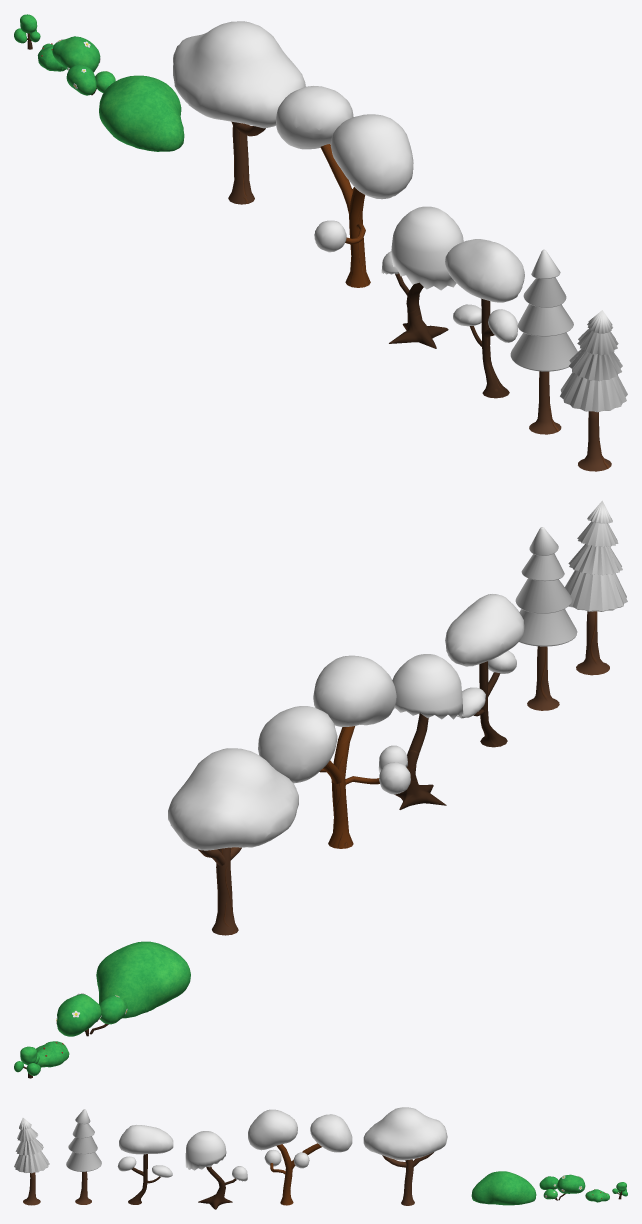
The model's file is TreesANDBushes.fbx.
3 renders of one model, top to bottom at view 1: azimuth 30°, elevation 25°; view 2: azimuth 150°, elevation 25°; view 3: azimuth 270°, elevation 25°, orthographic. The views are drawn at different scales.
Parts seen in each view (by area): view 1: Mball.001, Mball.028, Mball.003, Circle.001, Cylinder.011, Cylinder.012, Mball.021, Circle.010; view 2: Mball.001, Mball.028, Mball.003, Cylinder.011, Circle.001, Cylinder.012, Mball.021, Circle.010; view 3: Mball.001, Mball.028, Mball.003, Circle.001, Mball.021, Cylinder.011, Cylinder.012, Circle.010, Mball.017, Plane.014.
Part boxes in pixels (x1,y1,x2,y2): Mball.001: (276,86,413,287); Mball.028: (173,21,305,204); Mball.003: (445,239,524,398); Circle.001: (381,206,463,348); Cylinder.011: (510,249,577,434); Cylinder.012: (560,310,627,471); Mball.021: (99,75,184,151); Circle.010: (52,36,115,95); Mball.001: (258,655,410,848); Mball.028: (168,748,298,935); Mball.003: (445,594,524,747); Cylinder.011: (515,527,577,710); Circle.001: (378,654,463,809); Cylinder.012: (565,500,627,675); Mball.021: (96,941,190,1018); Circle.010: (56,993,127,1036); Mball.001: (248,1109,352,1205); Mball.028: (363,1107,447,1205); Mball.003: (117,1125,173,1204); Circle.001: (185,1131,247,1209); Mball.021: (471,1171,536,1205); Cylinder.011: (66,1109,101,1204); Cylinder.012: (14,1118,49,1205); Circle.010: (539,1174,585,1200); Mball.017: (585,1189,609,1202); Plane.014: (612,1182,627,1199).
Size of the model in its own units: 98.33 by 157 by 940.
